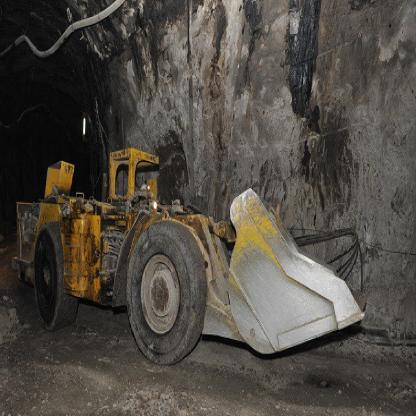bull_dozer/loader/grader: (10, 124, 377, 376)
